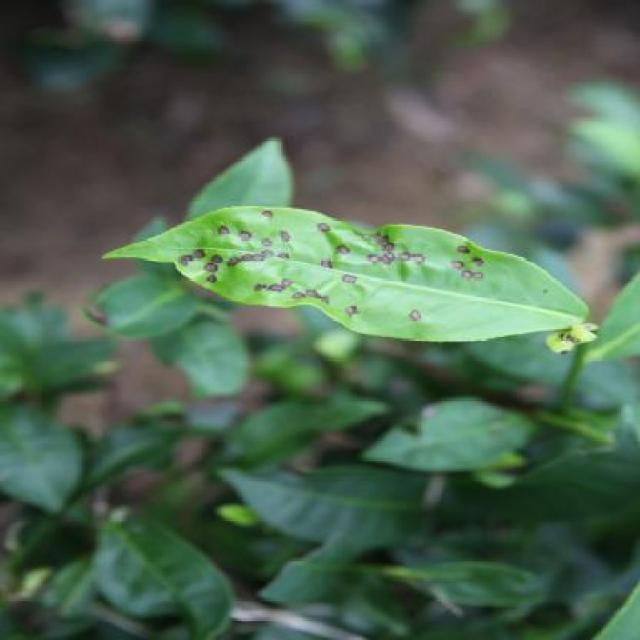Tea Mosquito bug infested leaf: (85, 206, 597, 351)
